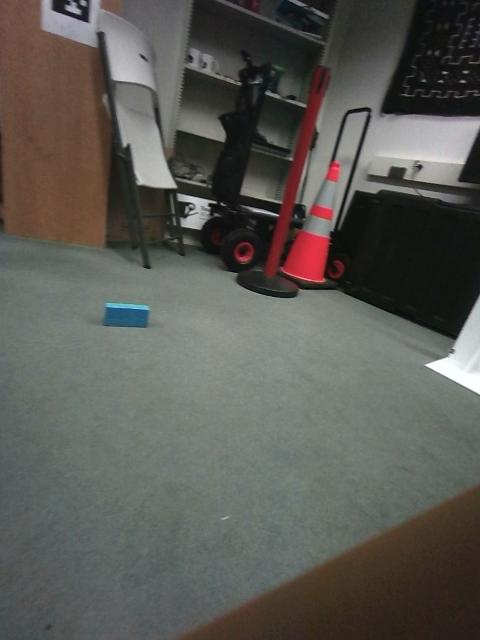block: (301, 406, 379, 489)
